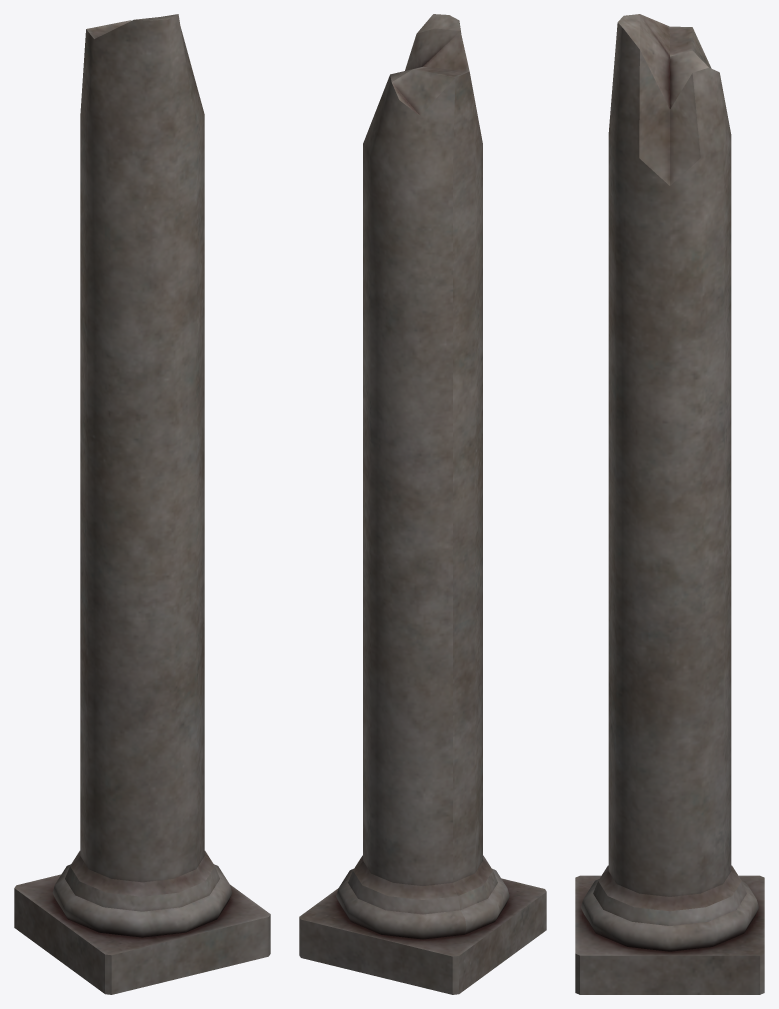
Rendered from sb_obj_outdoor009_AncientTemple_pillar02B.fbx.
3 views of the same model, side by side, from view 1: azimuth 30°, elevation 25°; view 2: azimuth 150°, elevation 25°; view 3: azimuth 270°, elevation 25° (orthographic). The views are drawn at different scales.
Visible parts, largest first — view 1: sb_obj_outdoor009_AncientTemple_pillar02B; view 2: sb_obj_outdoor009_AncientTemple_pillar02B; view 3: sb_obj_outdoor009_AncientTemple_pillar02B.
Boxes of the visible parts, x1,y1,x2,y2 form: sb_obj_outdoor009_AncientTemple_pillar02B: [14, 14, 270, 994]; sb_obj_outdoor009_AncientTemple_pillar02B: [299, 14, 546, 994]; sb_obj_outdoor009_AncientTemple_pillar02B: [575, 14, 764, 994].
Size of the model in its own units: 1.31 by 7.11 by 1.31.
